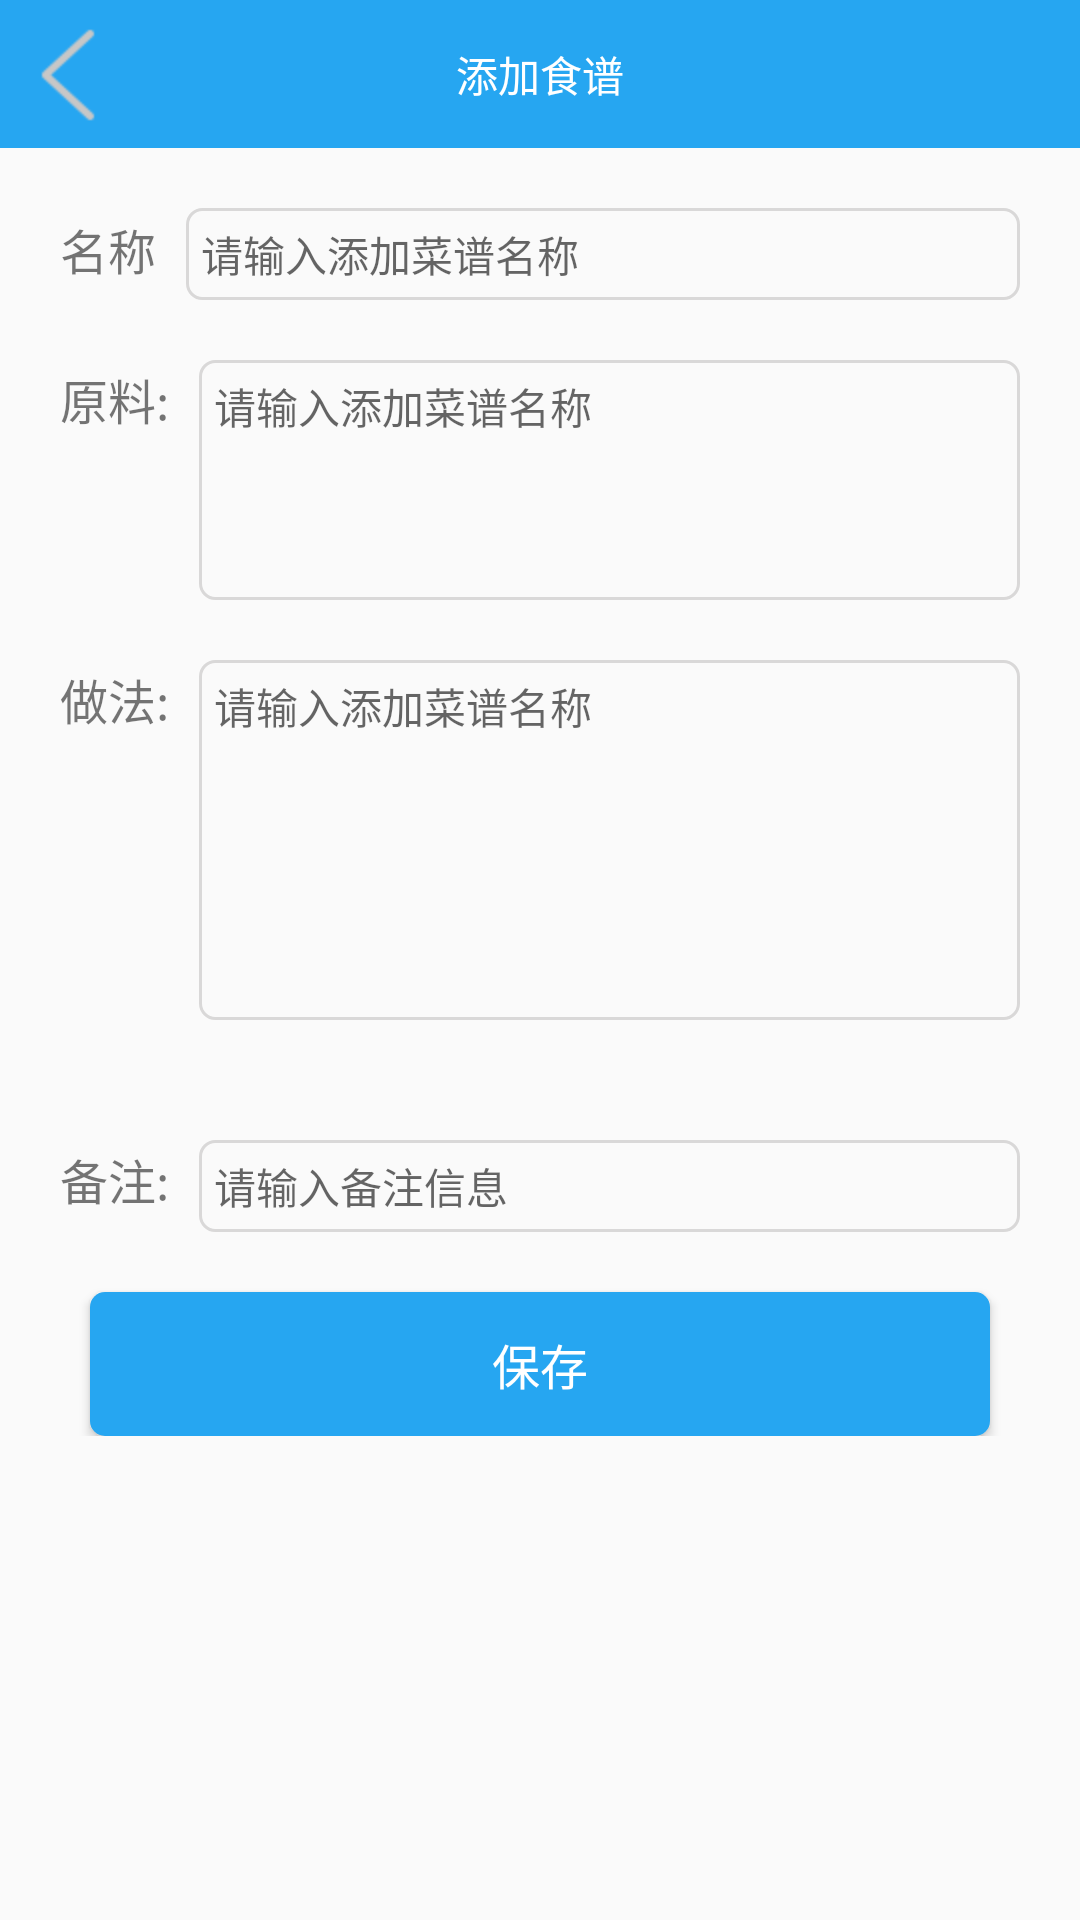

Named icons in this screenshot (1080×1920) and their centers, (x=x, y=y):
back: (x=68, y=75)
